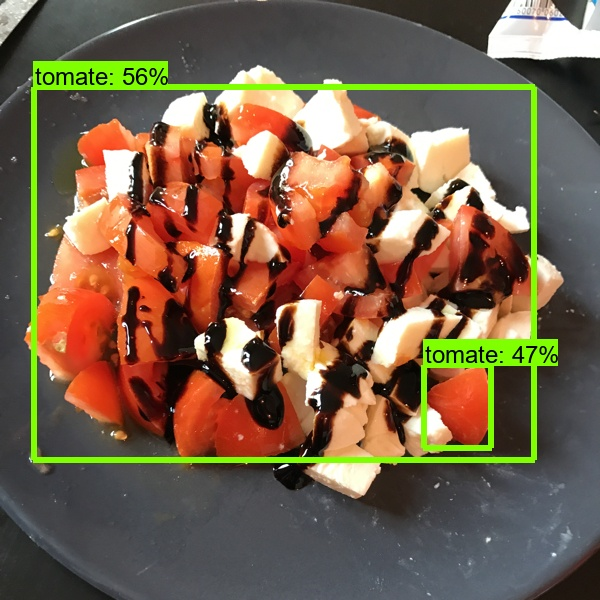tomate: (28, 68, 564, 498)
